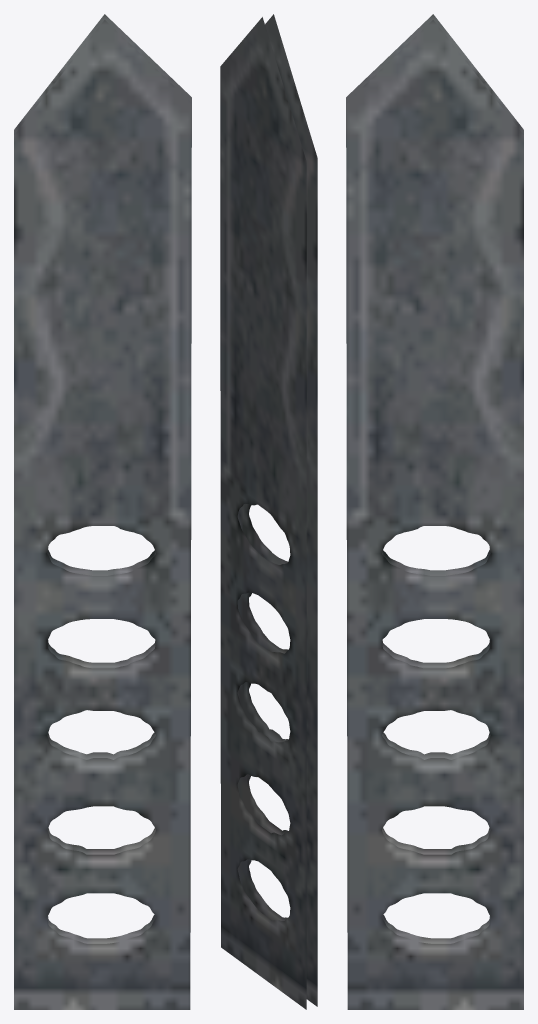
File: wp_mle_knife_survival_l2.fbx
3 renders of one model, left to right at view 1: azimuth 90°, elevation 25°; view 2: azimuth 210°, elevation 25°; view 3: azimuth 270°, elevation 25°, orthographic. The views are drawn at different scales.
Visible parts, largest first — view 1: mesh_node; view 2: mesh_node; view 3: mesh_node.
Boxes of the visible parts, bbox=[...] form: mesh_node: bbox=[14, 14, 191, 1009]; mesh_node: bbox=[220, 14, 317, 1009]; mesh_node: bbox=[346, 14, 523, 1009].
Size of the model in its own units: 0.0037 by 0.3011 by 0.049.
1 material, 1 textured.
